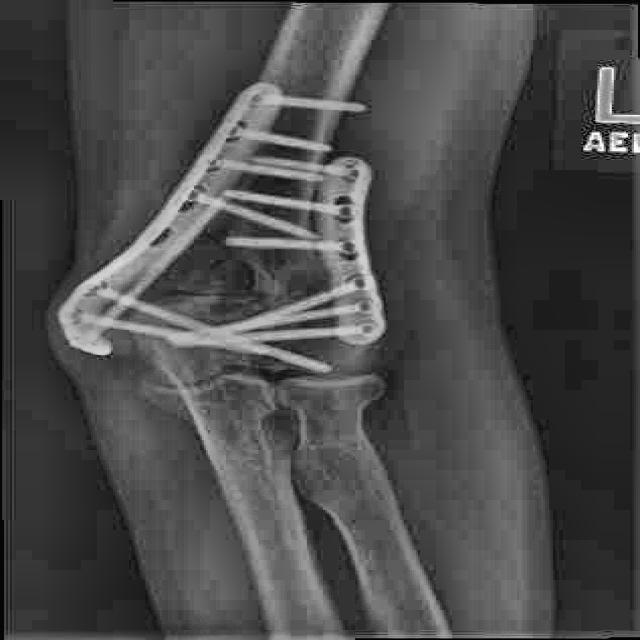elbow positive: (97, 351, 241, 431)
